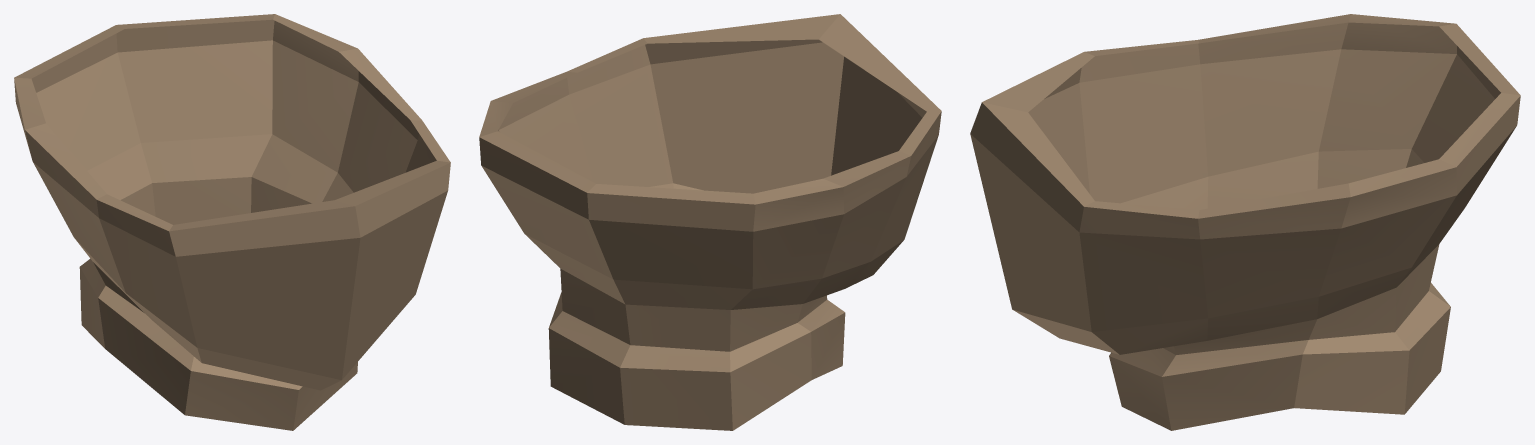
Rendered from Balaclava_01_SM.FBX.
3 views of the same model, side by side, from view 1: azimuth 30°, elevation 25°; view 2: azimuth 150°, elevation 25°; view 3: azimuth 270°, elevation 25° (orthographic). The views are drawn at different scales.
Parts seen in each view (by area): view 1: Balaclava_01_SM; view 2: Balaclava_01_SM; view 3: Balaclava_01_SM.
Part boxes in pixels (left/top/right/bottom): Balaclava_01_SM: left=14, top=14, right=450, bottom=430; Balaclava_01_SM: left=479, top=14, right=941, bottom=430; Balaclava_01_SM: left=970, top=14, right=1520, bottom=430.
Size of what is drawn, in the model's own units: 20.16 by 25.61 by 16.11.
